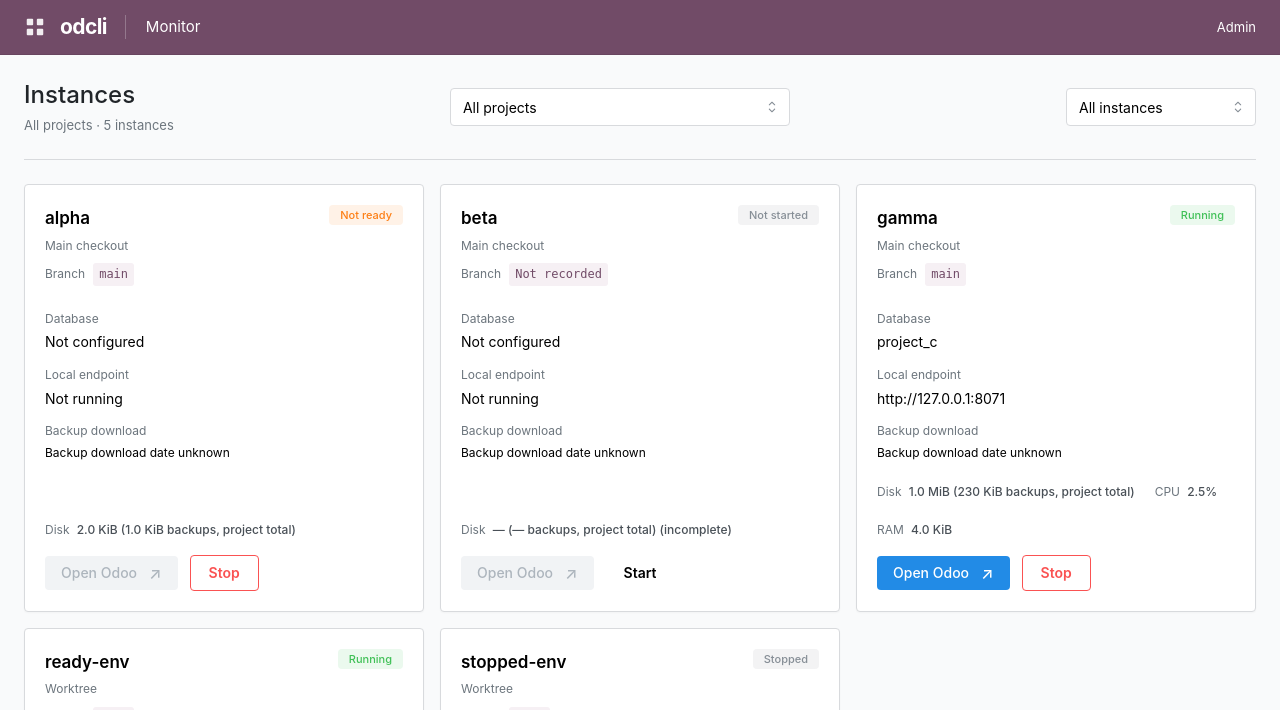
Test: App › shows a rejected runtime action and preserves the current control
The width and height of the screenshot is (1280, 710).
Check: the text "gamma" is shown, box [877,208,938,228]
Click the button with test id "runtime-control" below "4.0 KiB": [1056, 573] box [1022,555,1091,591]
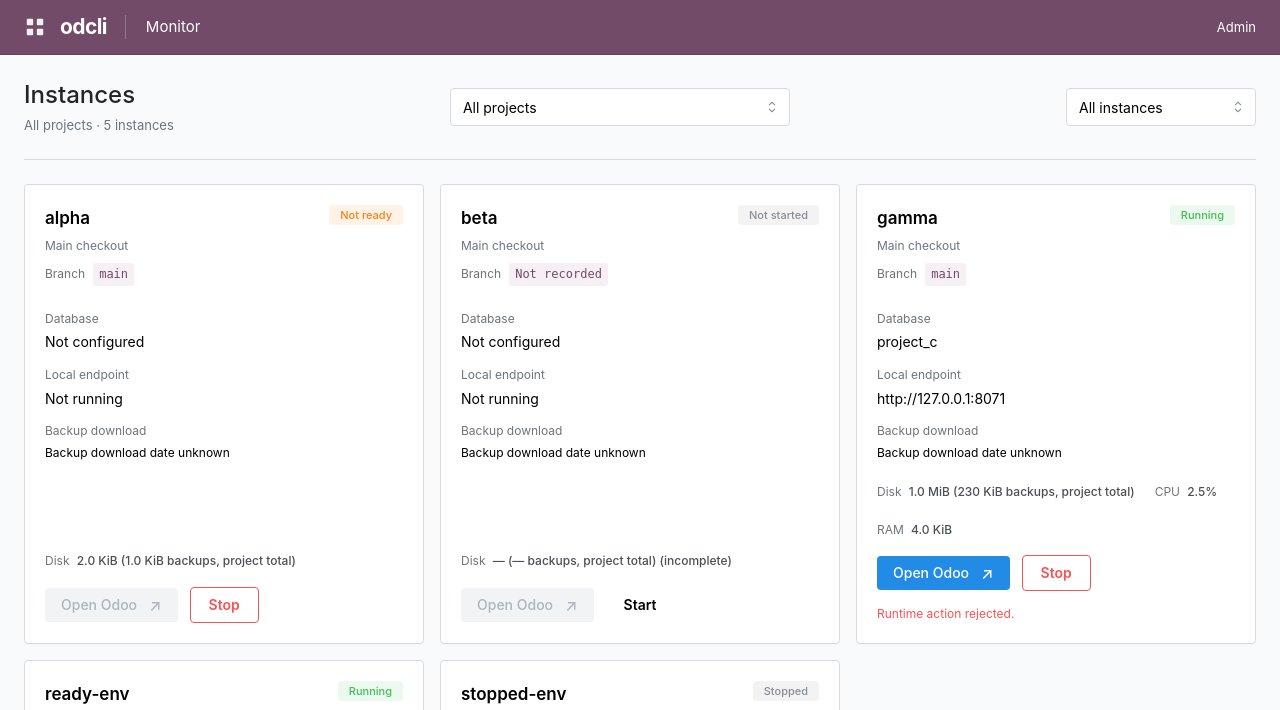
Check: the message reads "Runtime action rejected.", box [877,606,1014,621]
